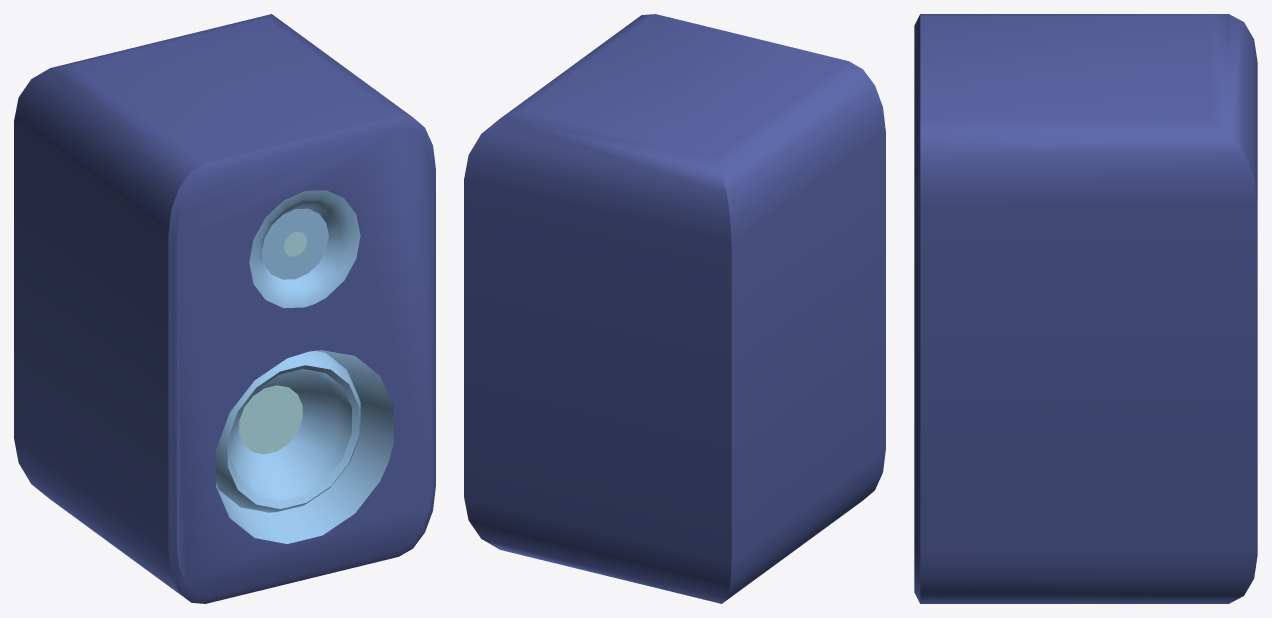
File: SONIDO.fbx
3 renders of one model, left to right at view 1: azimuth 30°, elevation 25°; view 2: azimuth 150°, elevation 25°; view 3: azimuth 270°, elevation 25°, orthographic. The views are drawn at different scales.
Parts seen in each view (by area): view 1: Bafle; view 2: Bafle; view 3: Bafle.
Boxes of the visible parts, x1,y1,x2,y2 form: Bafle: (14, 14, 435, 603); Bafle: (464, 14, 885, 603); Bafle: (914, 14, 1257, 603).
Bounding box in the file's own units: 260 × 409 × 264.
